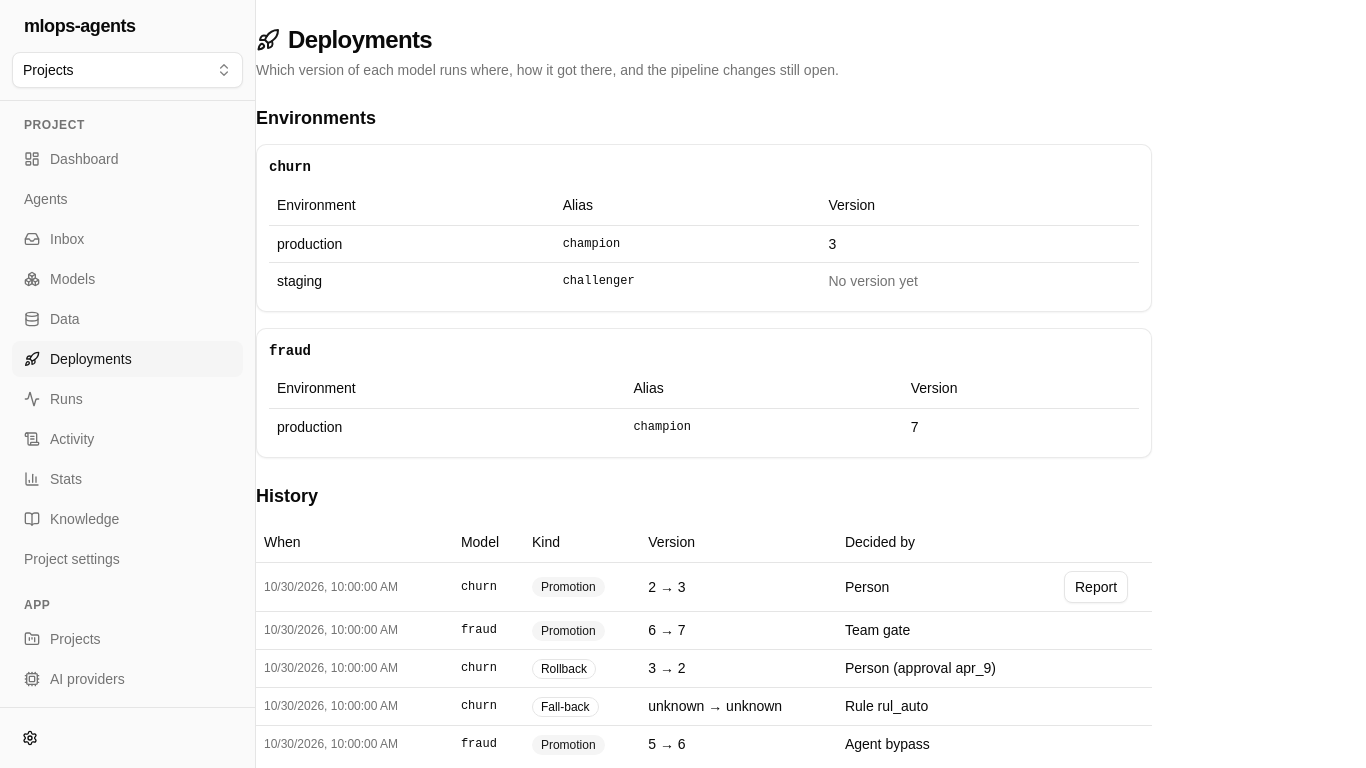
Test case: DeploymentsPage › shows the server's message when the report is not found
The image size is (1366, 768).
Click the button "Report": point(1096, 586) [1064,570,1128,602]
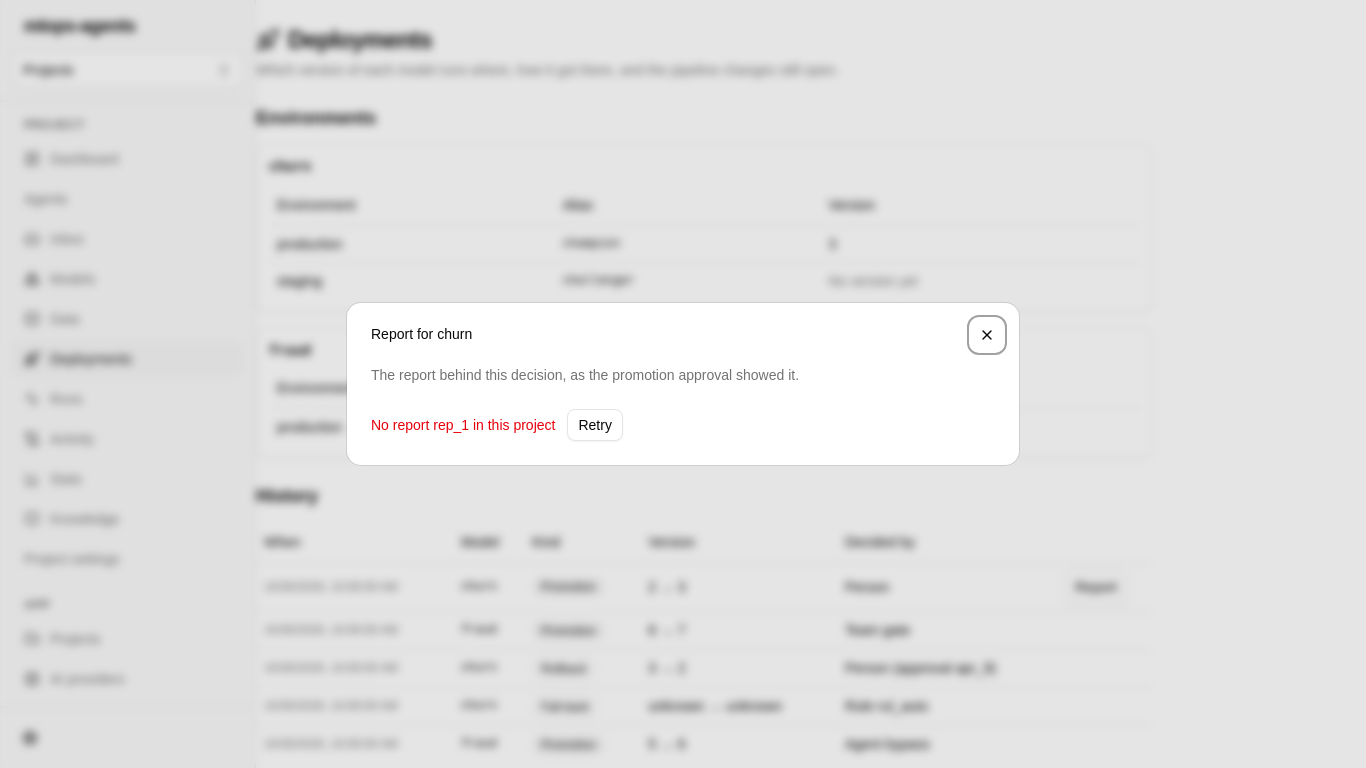
Result: the text "No report rep_1 in this project" is shown at [371,415,555,435]
Result: the button "Retry" is shown at [567,409,623,441]
